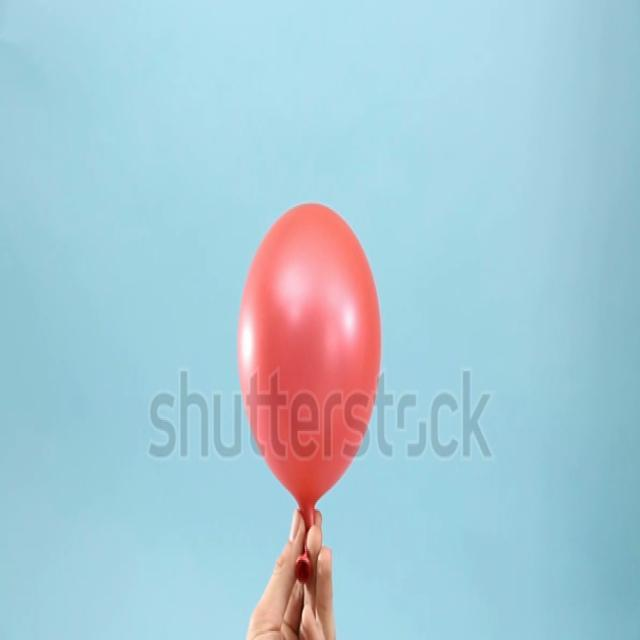red: (235, 201, 385, 506)
